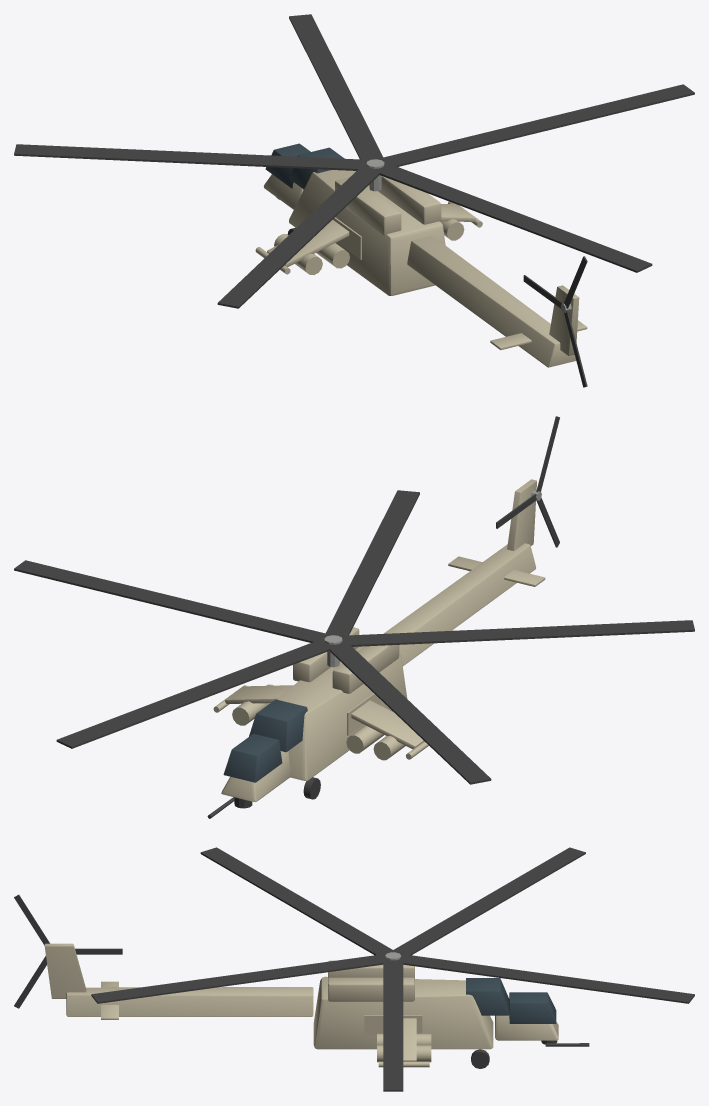
Rendered from rus_heli_mi35.glb.
The picture shows the model from 3 angles, top to bottom: view 1: azimuth 30°, elevation 25°; view 2: azimuth 150°, elevation 25°; view 3: azimuth 270°, elevation 25°; orthographic projection. The views are drawn at different scales.
Visible parts, largest first — view 1: body, rotor, trotor; view 2: body, rotor, trotor; view 3: body, rotor, trotor.
Part boxes in pixels (x1,y1,x2,y2): body: [255, 143, 587, 367]; rotor: [14, 14, 694, 308]; trotor: [523, 256, 587, 387]; body: [207, 479, 545, 818]; rotor: [14, 490, 694, 784]; trotor: [496, 416, 559, 547]; body: [44, 943, 589, 1068]; rotor: [91, 847, 694, 1091]; trotor: [14, 894, 122, 1008].
Bounding box in the file's own units: 15.81 × 4.79 × 18.76.
